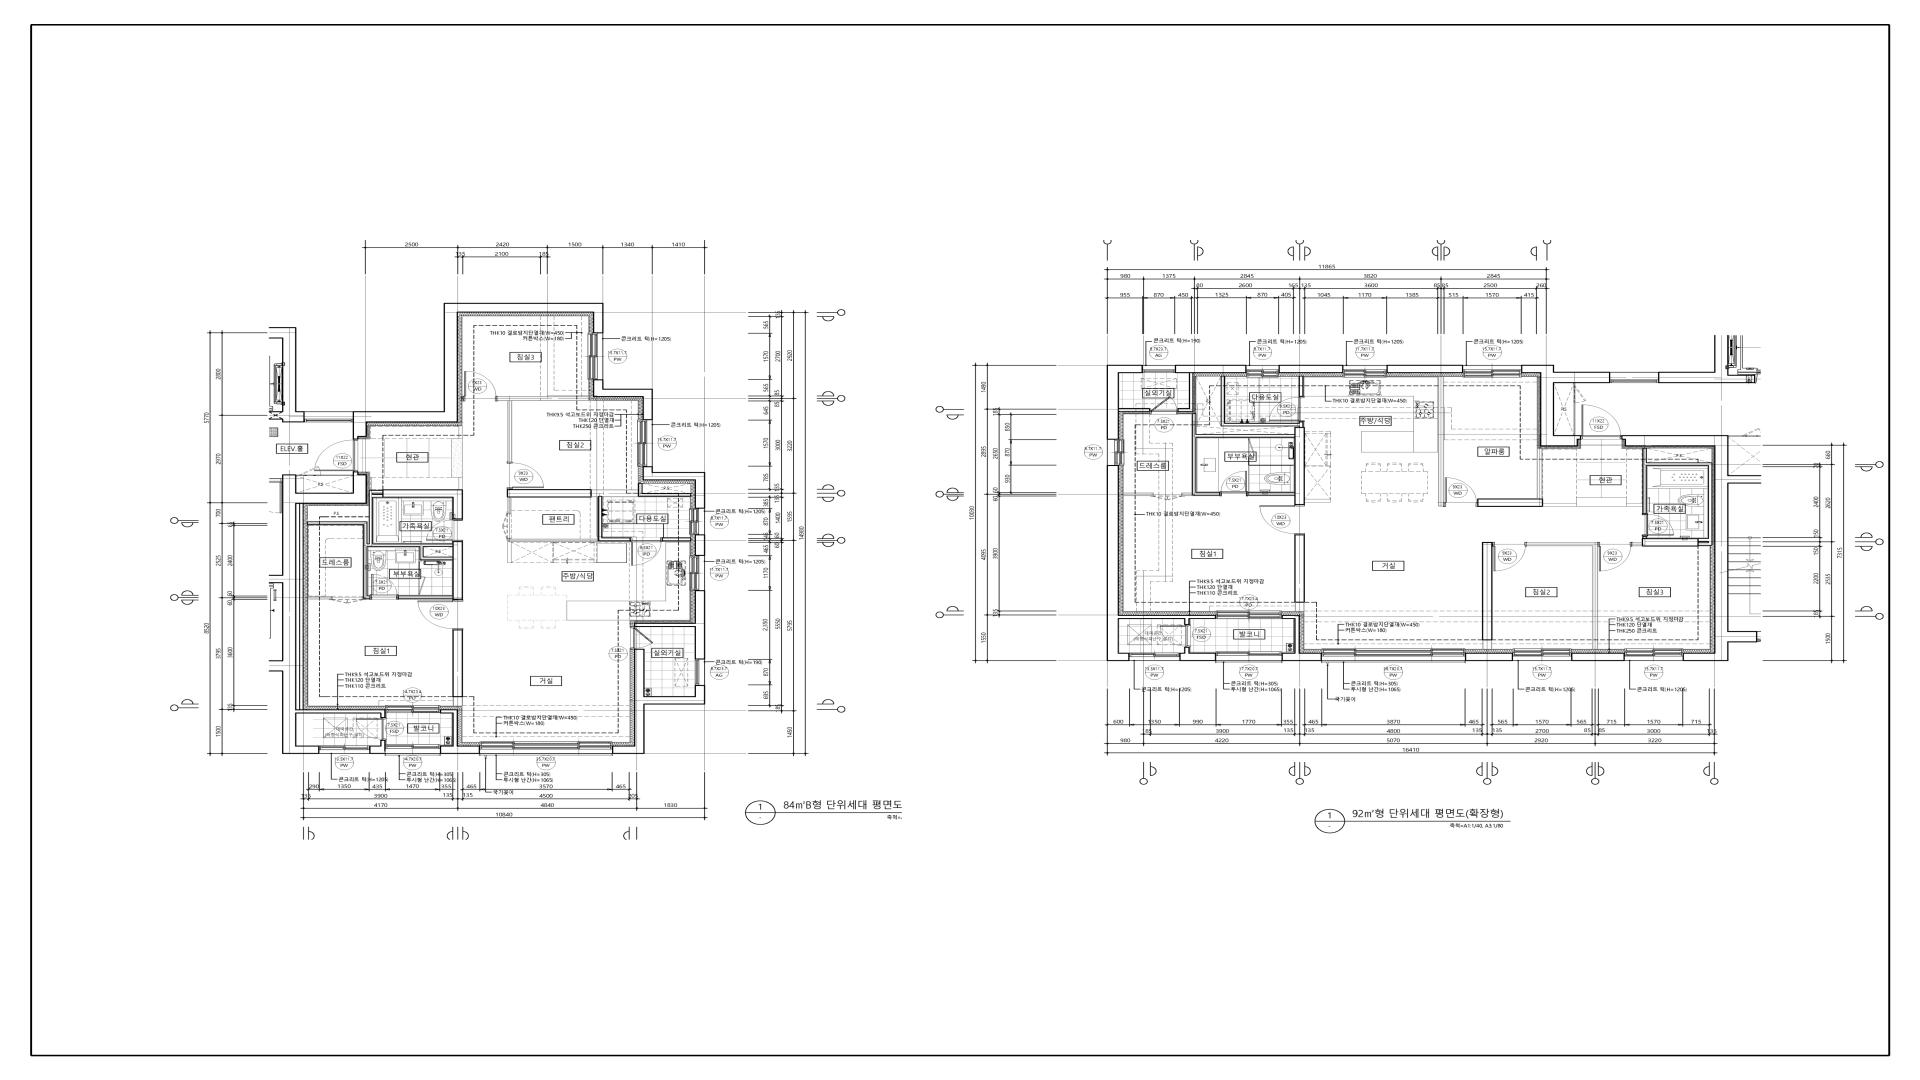door: (1581, 405, 1622, 439), (417, 600, 463, 630), (1259, 505, 1305, 535), (315, 439, 359, 471), (462, 371, 497, 401), (506, 462, 545, 489), (1493, 542, 1527, 572), (1444, 477, 1477, 508), (1598, 542, 1633, 571), (1269, 397, 1304, 422), (630, 538, 662, 566), (427, 520, 463, 542), (371, 574, 398, 600), (1158, 625, 1189, 647), (1642, 514, 1673, 537), (1220, 471, 1247, 496), (355, 717, 385, 740), (630, 626, 654, 649), (1150, 397, 1178, 414), (501, 513, 512, 539), (418, 560, 426, 595), (331, 596, 363, 604), (1573, 385, 1586, 404), (1153, 493, 1183, 501), (1743, 429, 1762, 436), (1249, 439, 1255, 456)
wall: (352, 303, 604, 439), (1622, 435, 1762, 662), (282, 472, 385, 754), (1106, 465, 1216, 661), (307, 489, 463, 600), (1183, 376, 1305, 505), (613, 649, 705, 754), (506, 489, 638, 563), (1626, 448, 1713, 547), (1527, 542, 1598, 649), (1522, 365, 1610, 447), (1477, 448, 1577, 506), (634, 591, 705, 659), (1659, 335, 1755, 384), (269, 327, 305, 422), (638, 467, 705, 509), (1106, 365, 1142, 439), (593, 380, 653, 421), (1282, 615, 1321, 661), (440, 709, 480, 754), (1482, 542, 1493, 649), (452, 630, 463, 707), (1295, 535, 1305, 612), (1439, 377, 1444, 506), (1178, 373, 1193, 411), (1387, 365, 1462, 373), (1175, 365, 1246, 373), (1279, 365, 1344, 373), (1572, 653, 1625, 662), (497, 396, 588, 401), (1180, 647, 1216, 661), (1465, 653, 1513, 661), (508, 401, 512, 462), (695, 534, 705, 556), (369, 740, 385, 754), (1120, 407, 1150, 411), (1299, 376, 1304, 397), (307, 596, 332, 600), (1573, 404, 1576, 435), (662, 538, 691, 541), (1124, 493, 1153, 496), (297, 475, 353, 476), (1729, 435, 1743, 436), (1573, 384, 1576, 385)
window: (1321, 649, 1465, 663), (480, 742, 613, 756), (1216, 651, 1282, 663), (637, 421, 653, 467), (1625, 649, 1684, 661), (1462, 365, 1522, 377), (1513, 649, 1572, 661), (588, 334, 603, 380), (386, 745, 440, 756), (690, 556, 705, 591), (1344, 365, 1387, 377), (305, 411, 353, 422), (1610, 372, 1659, 382), (1108, 439, 1125, 465), (1216, 612, 1282, 618), (386, 705, 440, 713), (1129, 653, 1180, 661), (319, 746, 369, 754), (690, 509, 705, 534), (1246, 365, 1279, 377), (695, 659, 705, 686), (1142, 365, 1175, 373)
